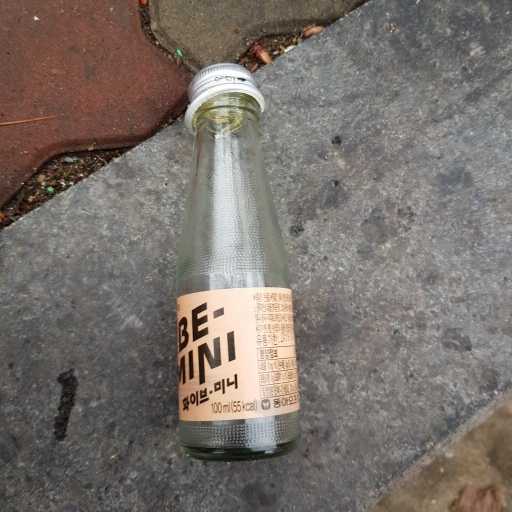Glass_4: (170, 62, 309, 464)
